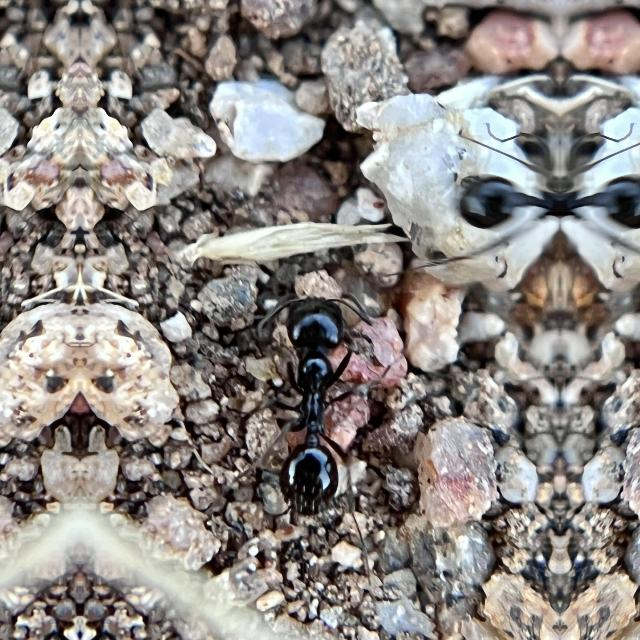Messor: (254, 276, 368, 528), (435, 132, 559, 286), (561, 132, 640, 286)
